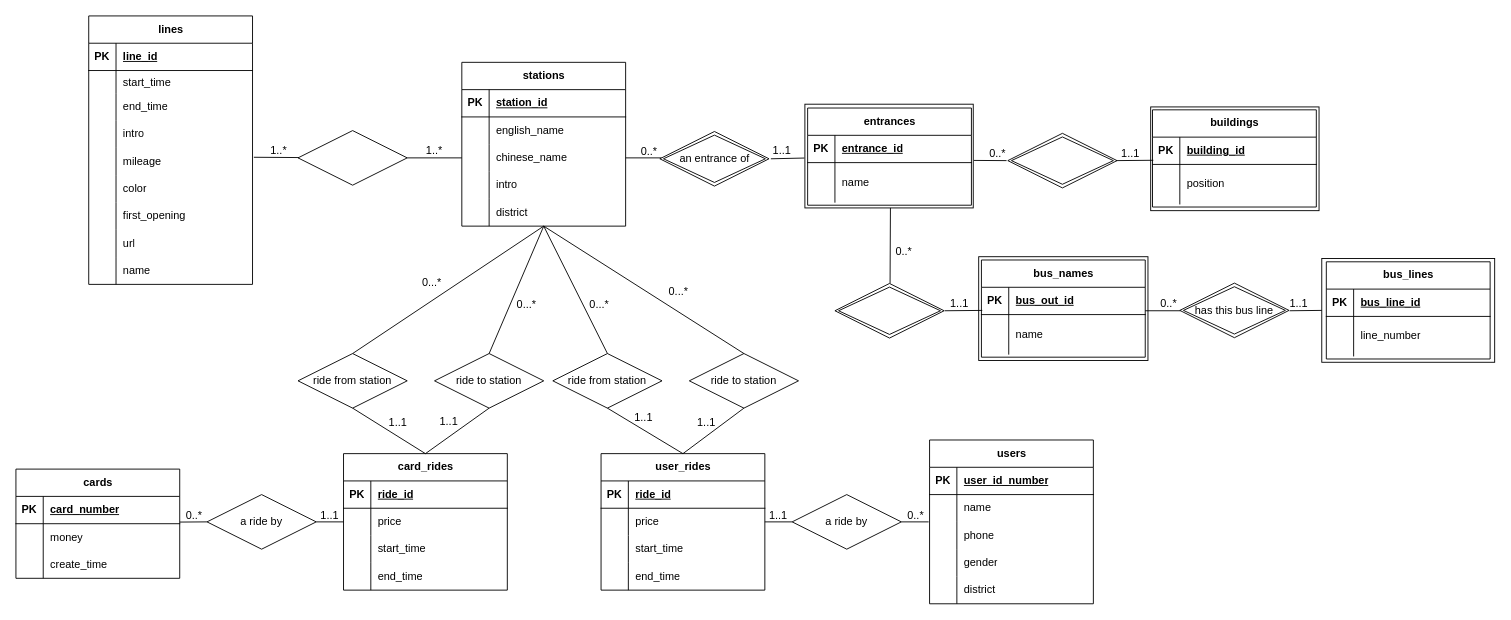
This 1511x620 diagram has some shape labels left out. The centre of each missing label's shape, as x and y in pixels:
"a station of" goes at (352,157).
"can go to" goes at (1062,160).
"has bus shuttle" goes at (889,310).
